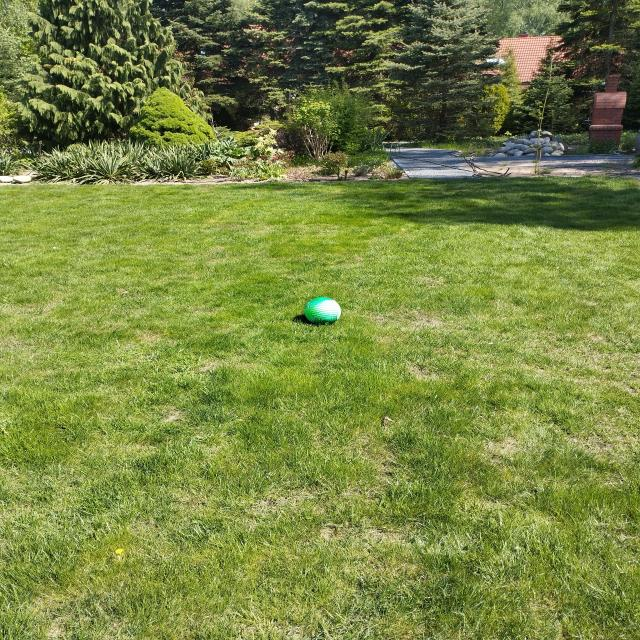zielona: (303, 298, 341, 323)
